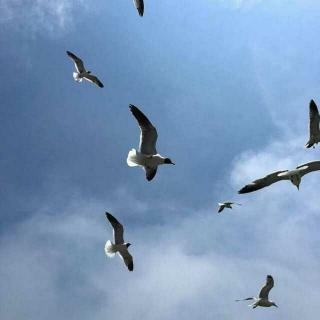bird: (124, 105, 176, 186), (236, 160, 320, 198), (99, 209, 135, 272), (234, 274, 280, 312), (66, 48, 105, 89), (213, 201, 235, 219)
